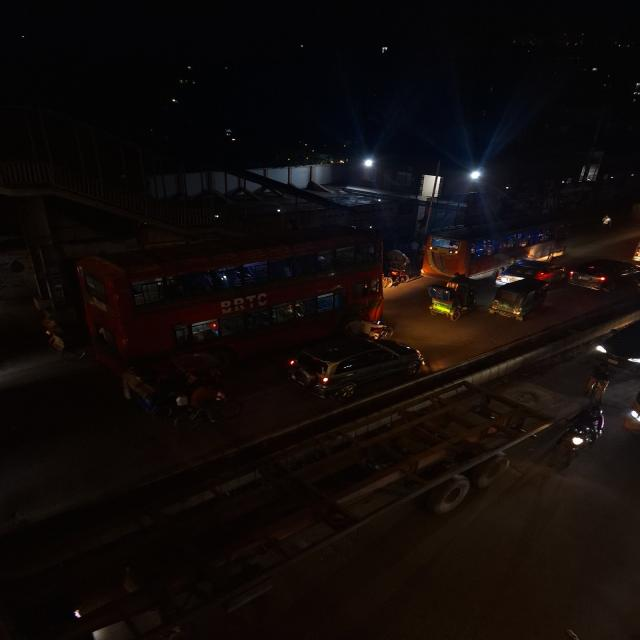bus: (64, 226, 380, 358), (422, 218, 571, 277)
car: (284, 333, 430, 397), (593, 313, 640, 371), (566, 256, 640, 292), (492, 259, 564, 283)
cng: (488, 279, 548, 323)
motorcycle: (561, 399, 610, 465)
pedestrian: (596, 213, 616, 233)
rickshaw: (126, 370, 242, 430), (421, 281, 480, 323), (382, 248, 415, 288)
